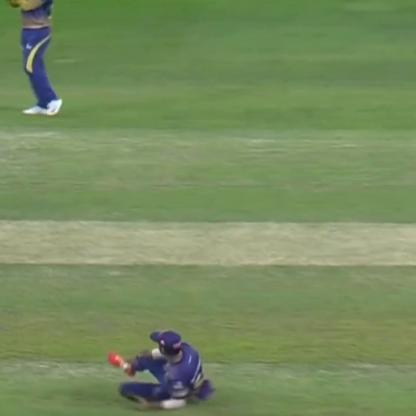ball: (116, 360, 134, 371)
